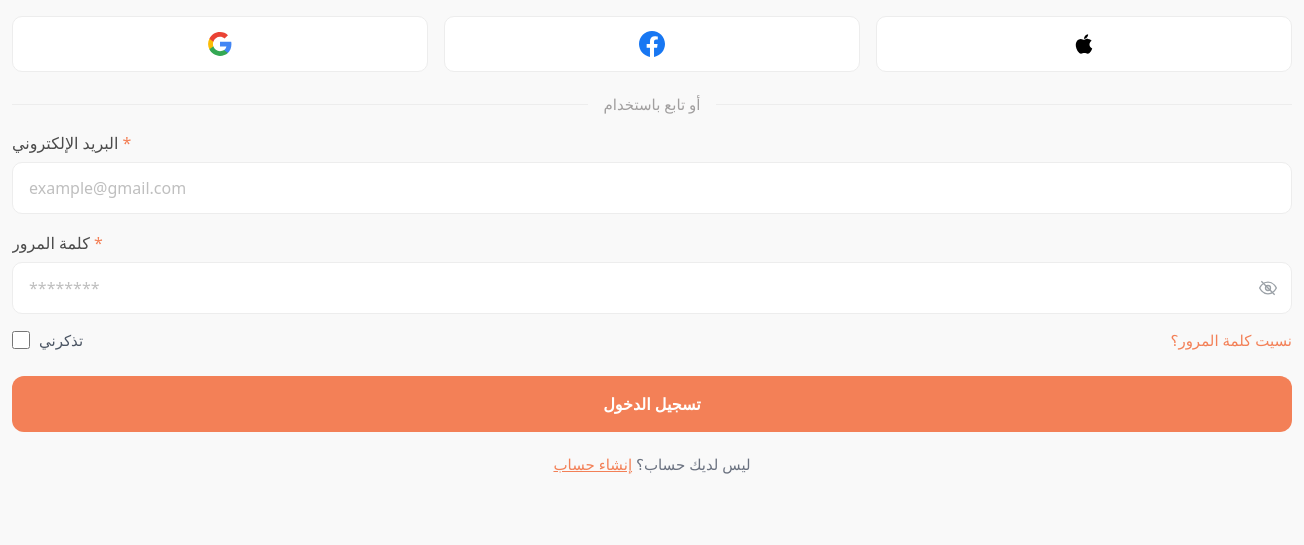
Scenario: LoginForm › labels both fields and announces the validation errors
Click the button "تسجيل الدخول". click: (652, 404)
box: [12,376,1292,432]
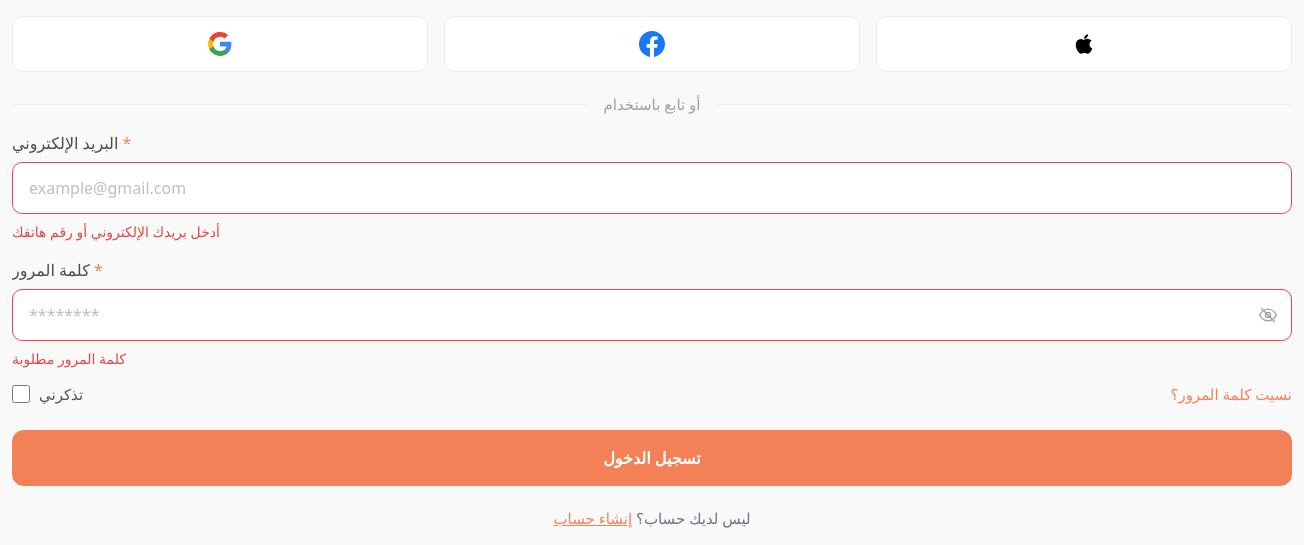
Check: the messages read "أدخل بريدك الإلكتروني أو رقم هاتفك", "كلمة المرور مطلوبة", in this order, box [12,222,220,241]; [12,349,126,368]
